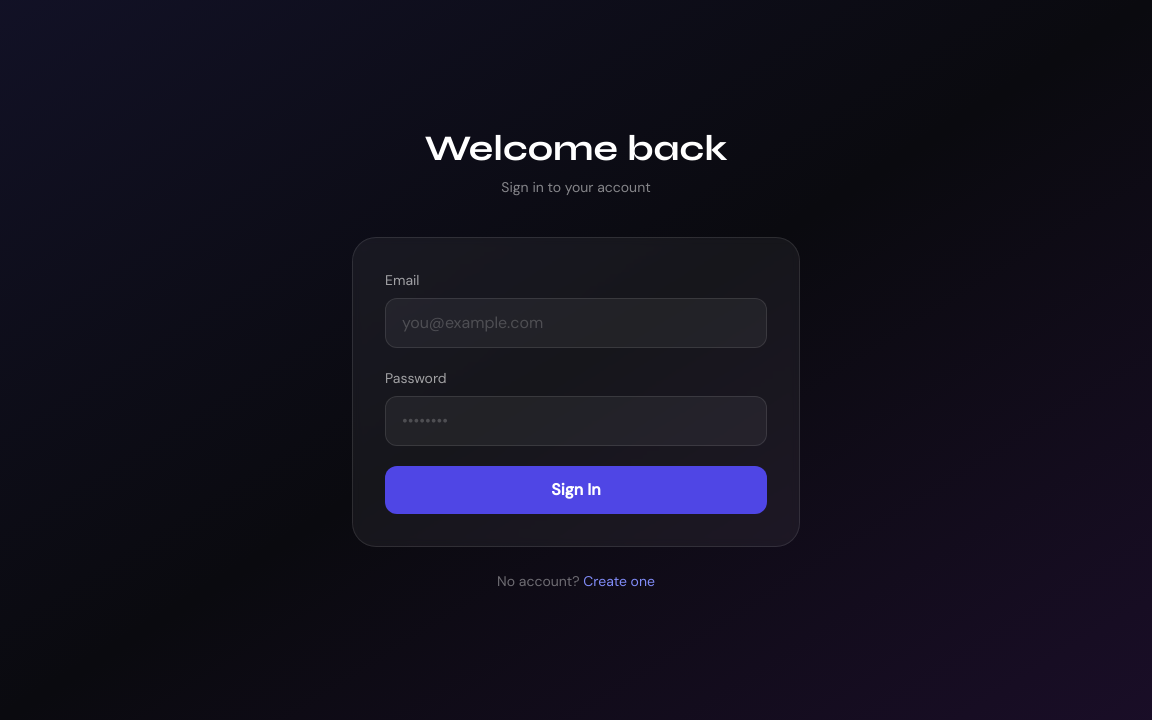
Test: Login Page › shows error when fields are empty
Click the button "Sign In": (576, 490) [385,466,767,514]
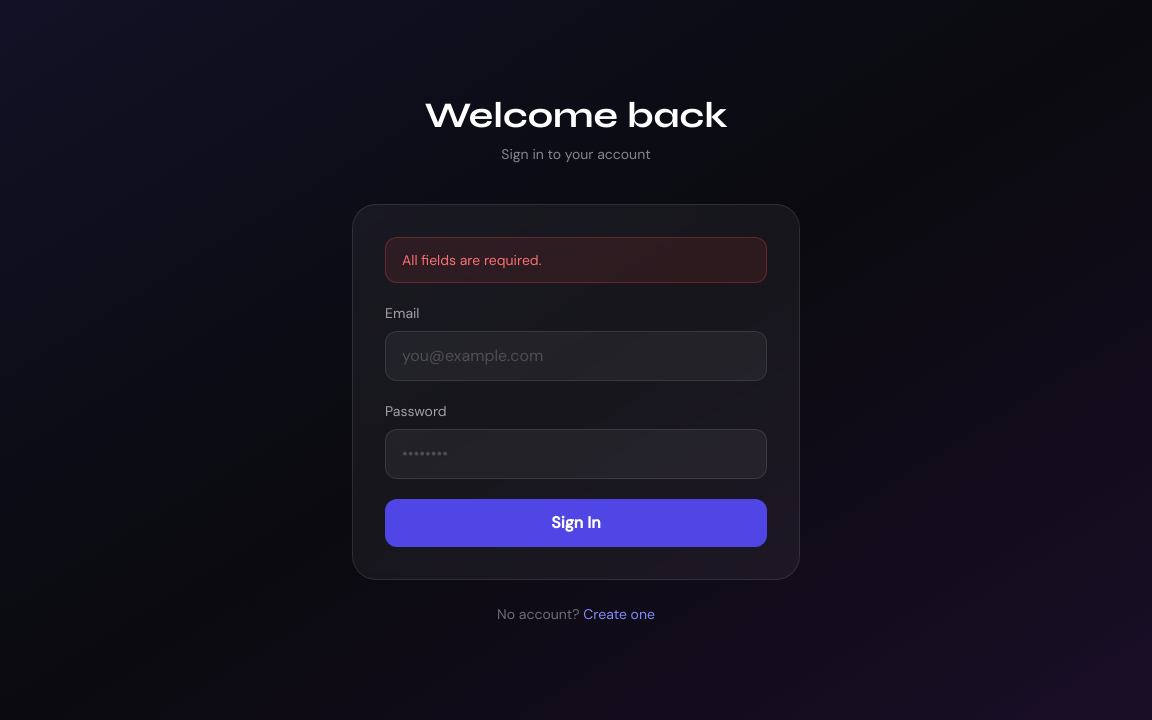
Result: the text "All fields are required." is shown at [385,237,767,283]
